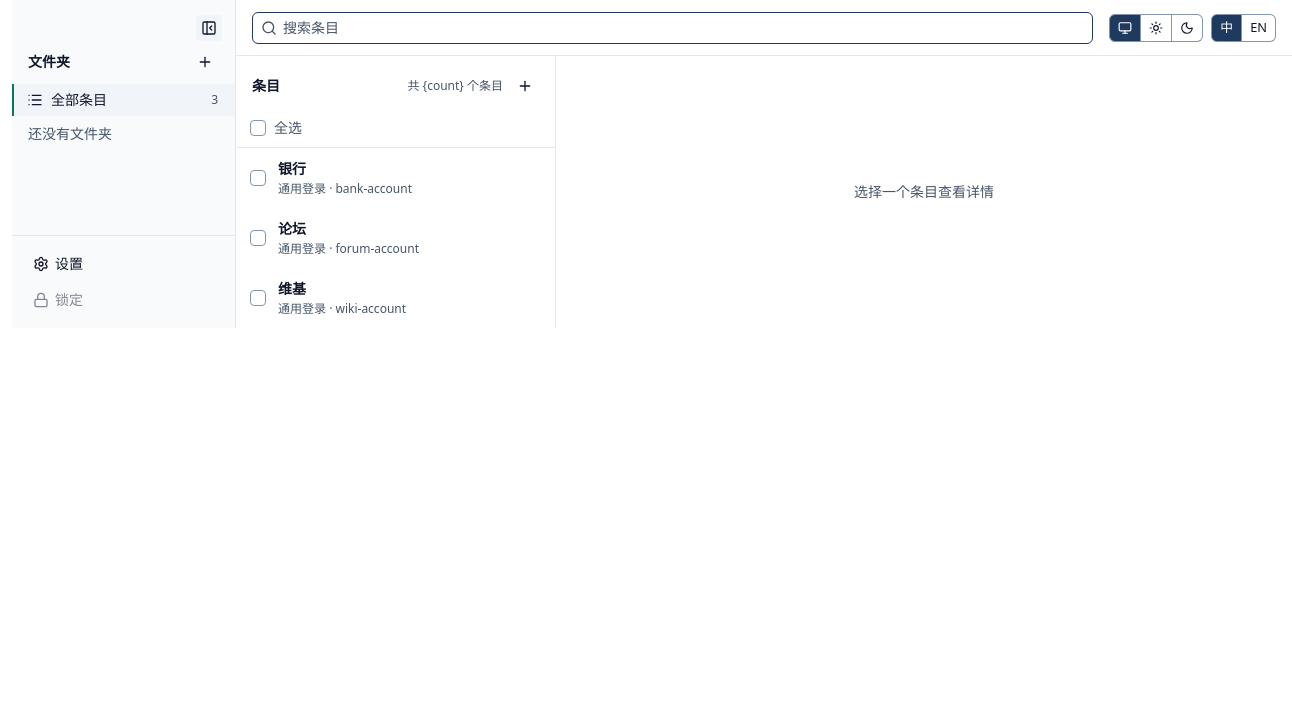
Test: 工作区里的附件区 › 选中条目后详情里出现它自己的附件, 切换条目后换成另一个条目的附件
The width and height of the screenshot is (1292, 720).
Click the button "论坛 通用登录 · forum-account": click(412, 238) left=270, top=208, right=555, bottom=268
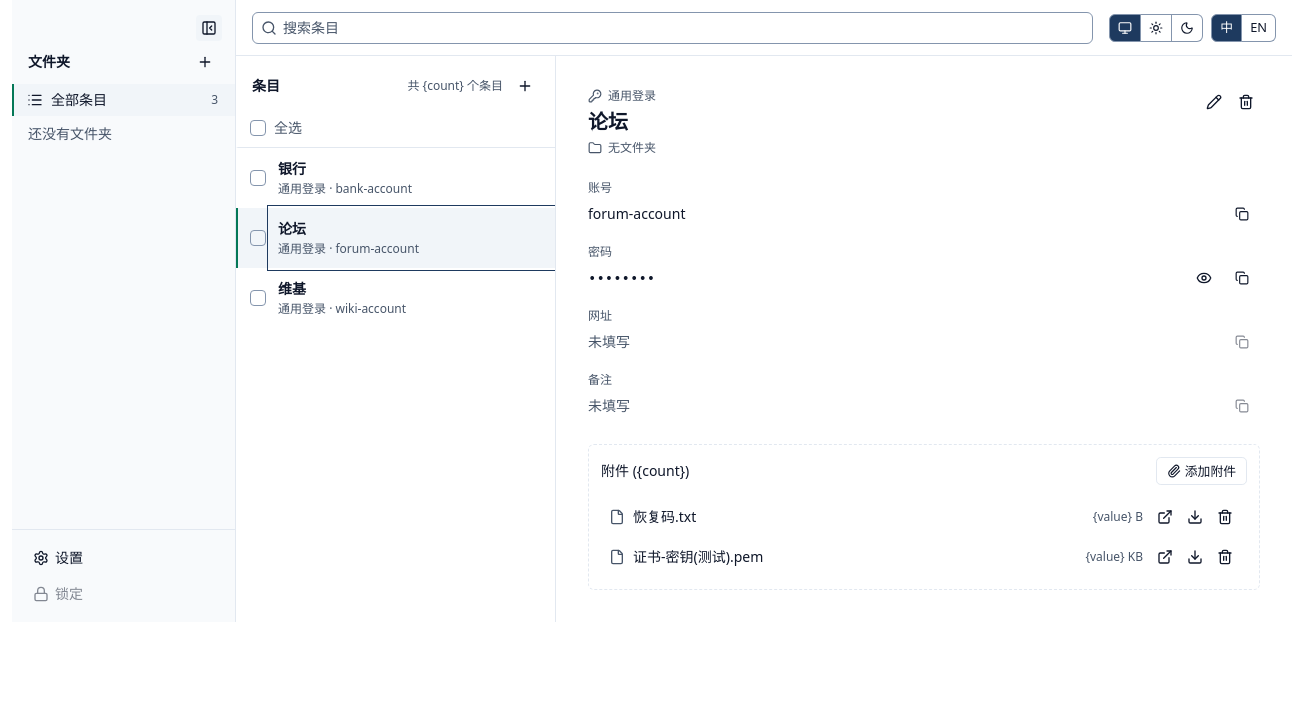
Result: the heading "论坛" is shown at left=588, top=108, right=628, bottom=135
Result: the text "恢复码.txt" is shown at left=633, top=507, right=696, bottom=526
Click the button "银行 通用登录 · bank-account": click(412, 178) left=270, top=148, right=555, bottom=208
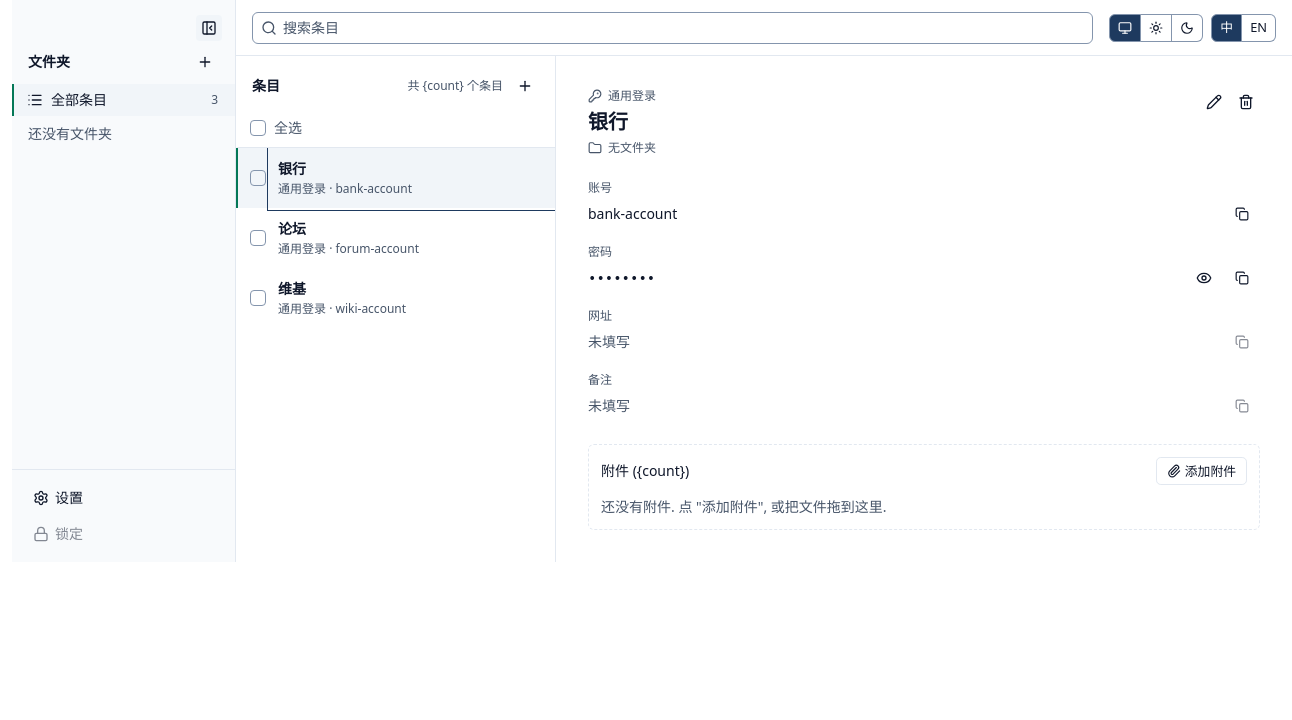
Result: the heading "银行" is shown at left=588, top=108, right=628, bottom=135
Result: the text "还没有附件. 点 \"添加附件\", 或把文件拖到这里." is shown at left=601, top=497, right=887, bottom=516
Result: the text "恢复码.txt" is gone
